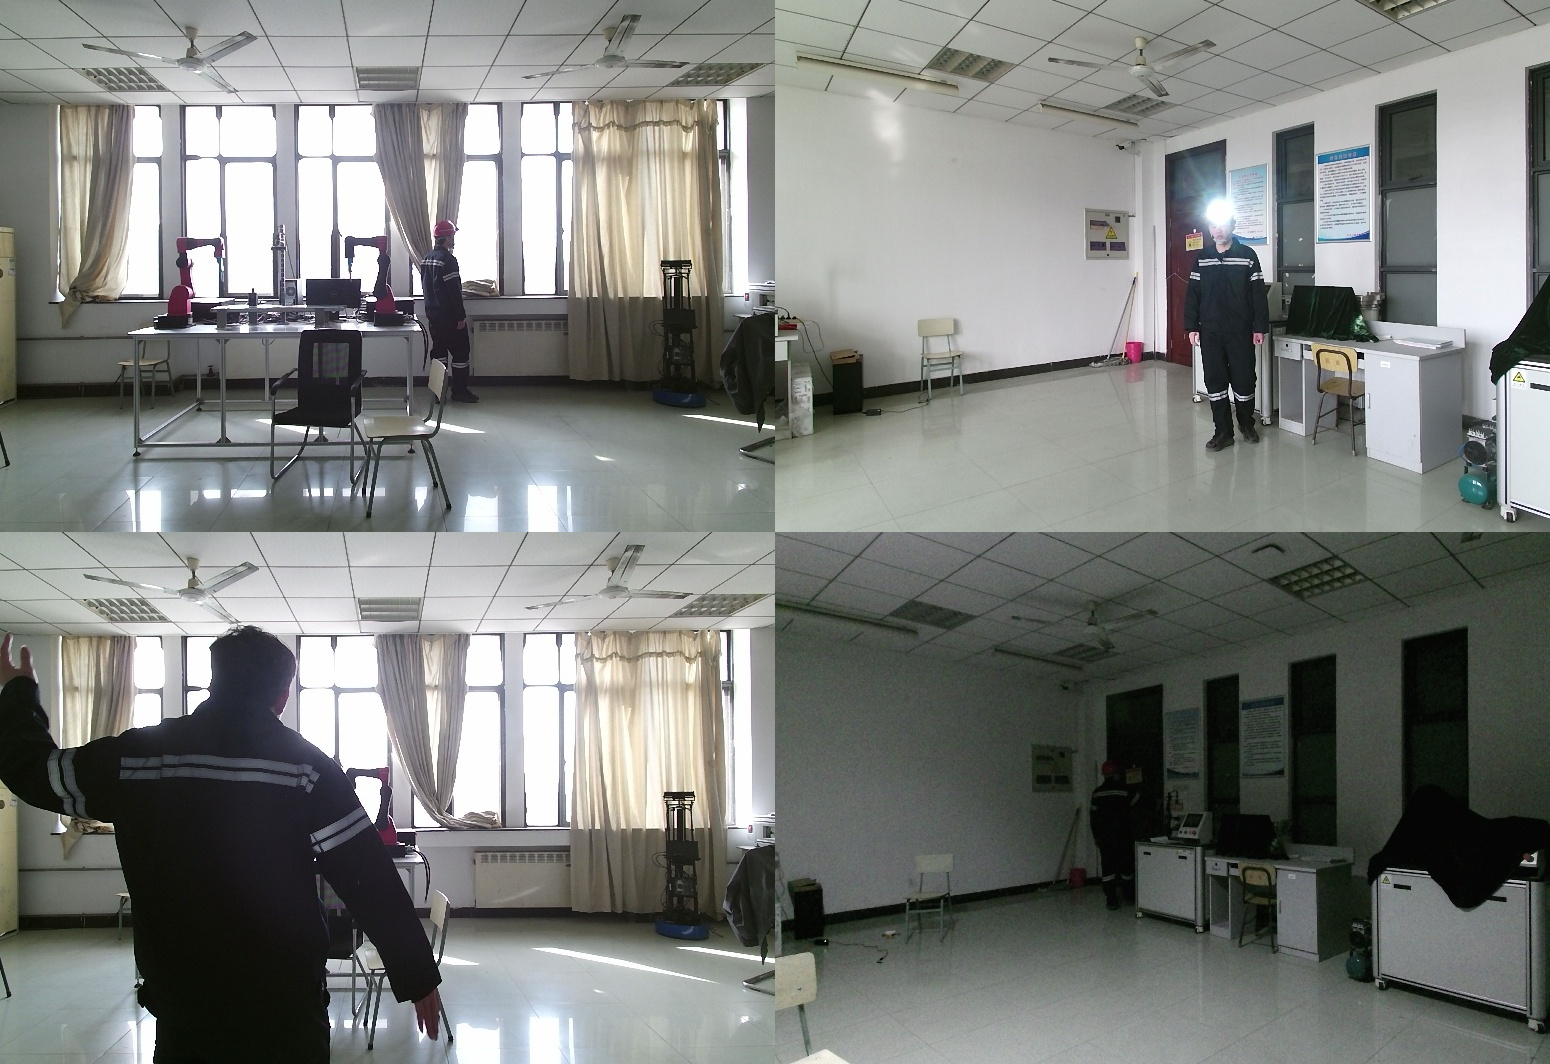person: (1, 629, 451, 1064), (1191, 205, 1281, 452), (1083, 762, 1156, 918), (425, 220, 483, 414)
